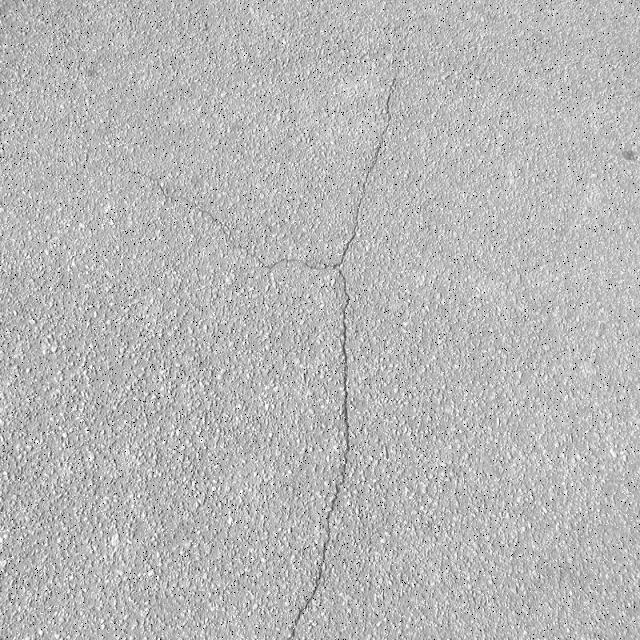Crack: (134, 64, 406, 640)
